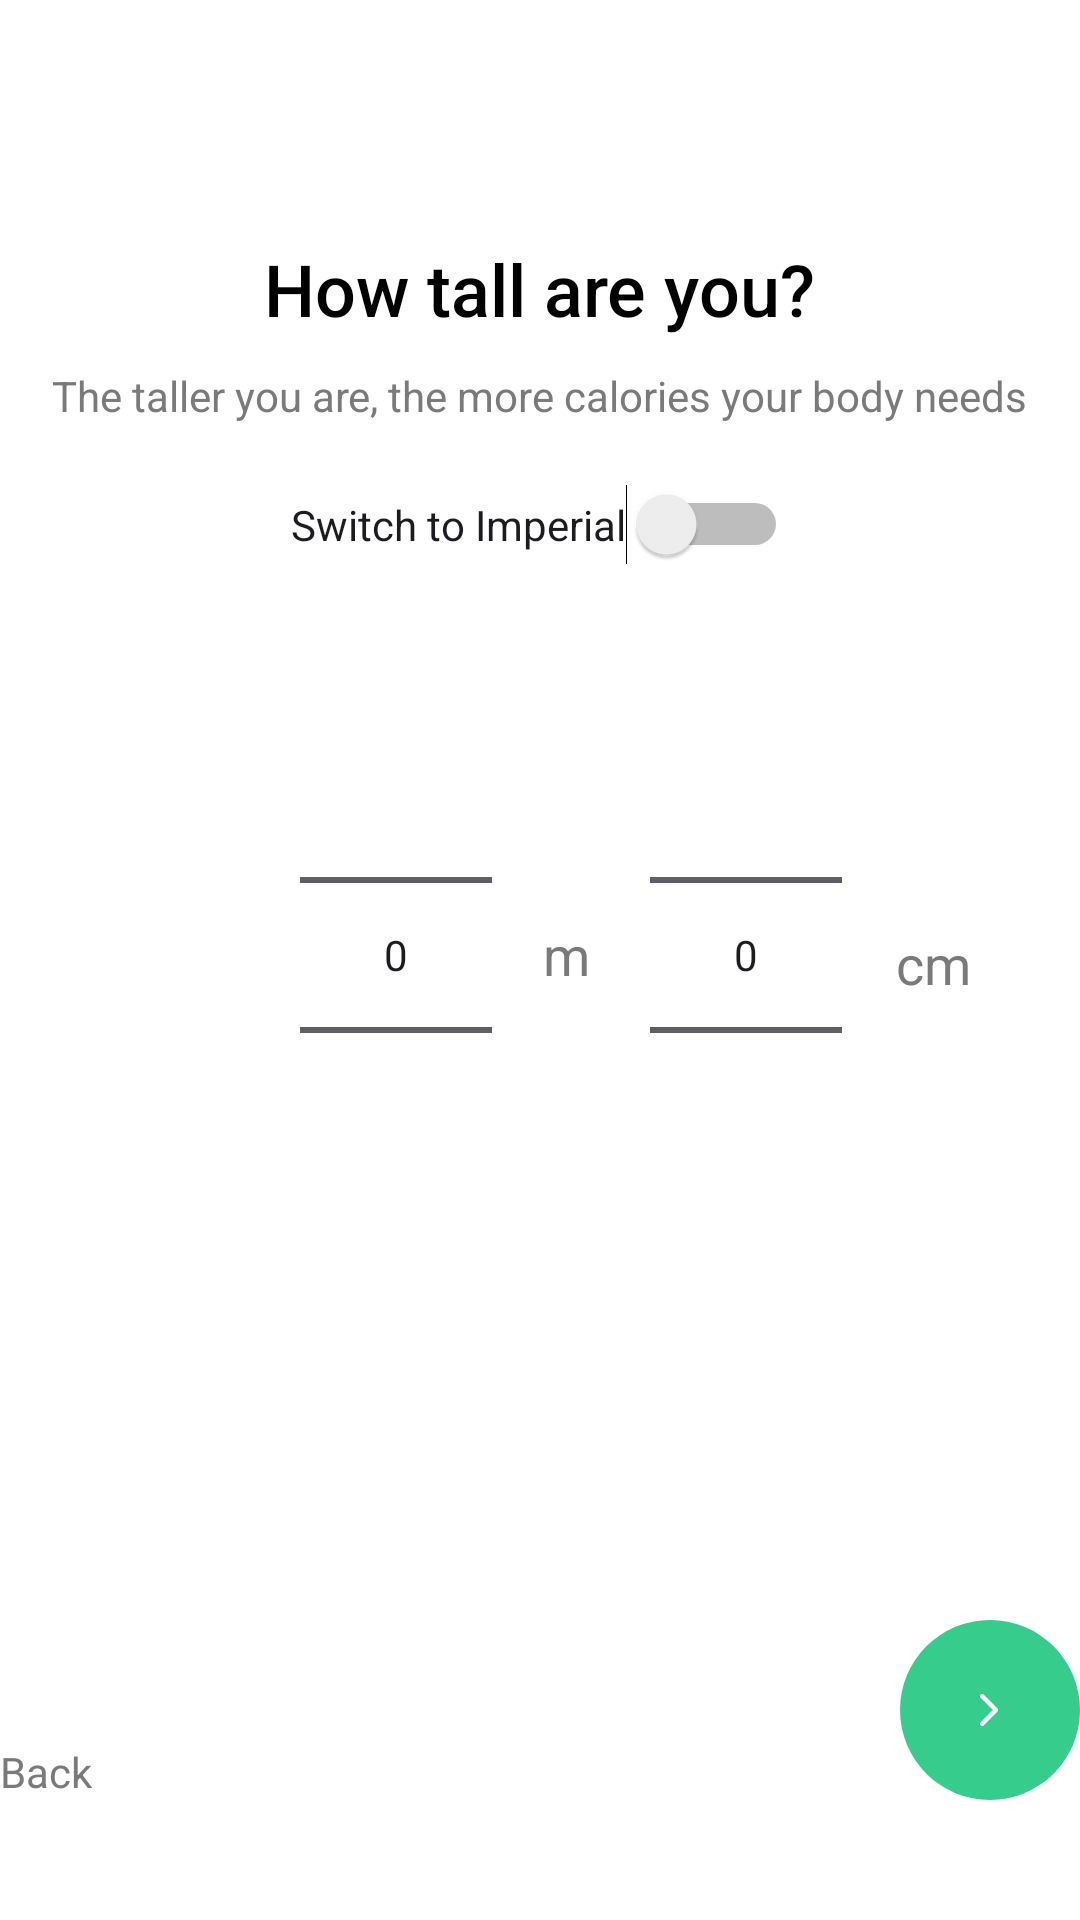

Where icons sit on this 1080px x 1920px app screen, as (x1, y1, x2, y2):
Next: (900, 1620, 1080, 1800)
